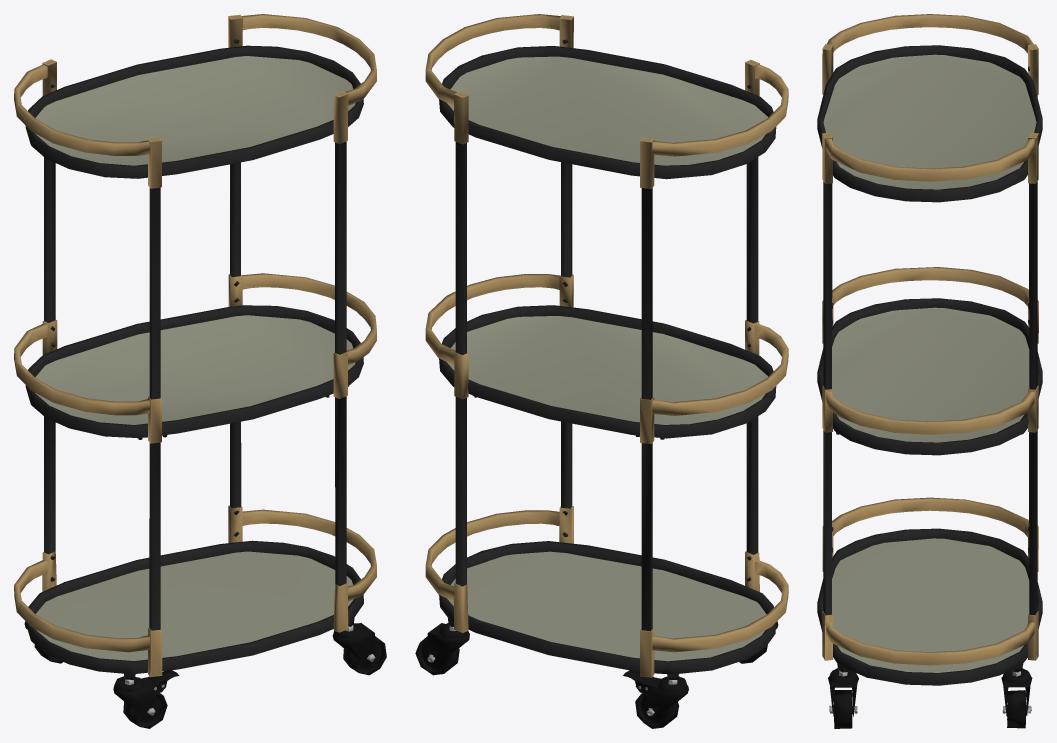
The picture shows the model from 3 angles, left to right: view 1: azimuth 30°, elevation 25°; view 2: azimuth 150°, elevation 25°; view 3: azimuth 270°, elevation 25°; orthographic projection. The views are drawn at different scales.
Parts seen in each view (by area): view 1: visual_RootNode; view 2: visual_RootNode; view 3: visual_RootNode.
Part boxes in pixels (bbox=[...]): visual_RootNode: bbox=[14, 14, 386, 728]; visual_RootNode: bbox=[415, 14, 788, 728]; visual_RootNode: bbox=[817, 14, 1042, 728].
Size of the model in its own units: 0.5149 by 0.3129 by 0.8841.
1 material, 1 textured.
